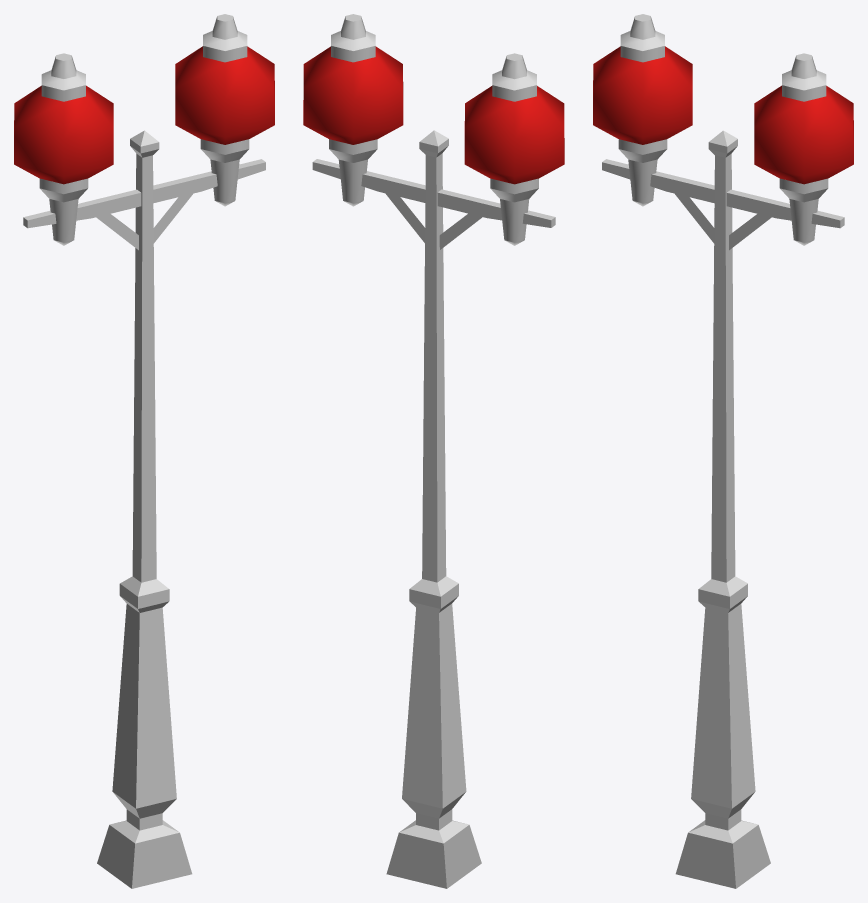
Rendered from Two lamp.fbx.
3 views of the same model, side by side, from view 1: azimuth 30°, elevation 25°; view 2: azimuth 150°, elevation 25°; view 3: azimuth 330°, elevation 25° (orthographic).
Parts seen in each view (by area): view 1: mesh_props_05; view 2: mesh_props_05; view 3: mesh_props_05.
Boxes of the visible parts, left/top/right/bottom form: mesh_props_05: left=14, top=14, right=274, bottom=888; mesh_props_05: left=303, top=14, right=564, bottom=888; mesh_props_05: left=593, top=14, right=853, bottom=888.
Bounding box in the file's own units: 54.02 × 164 × 17.89.
